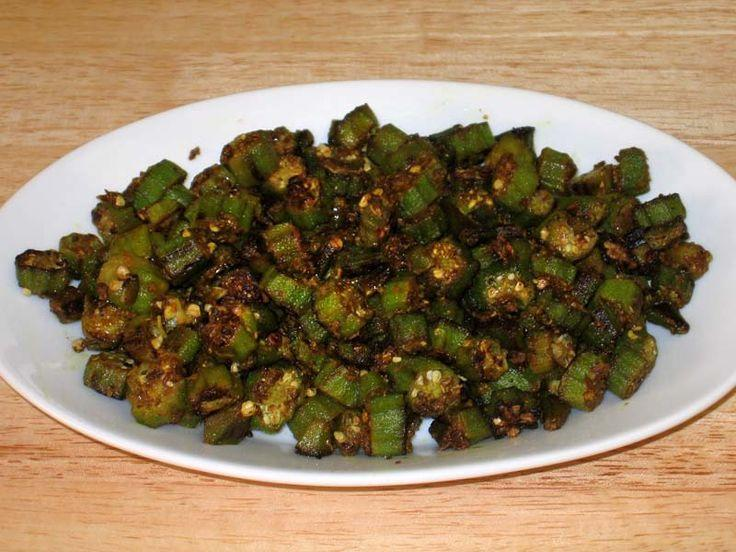bhindi: (137, 172, 636, 419)
